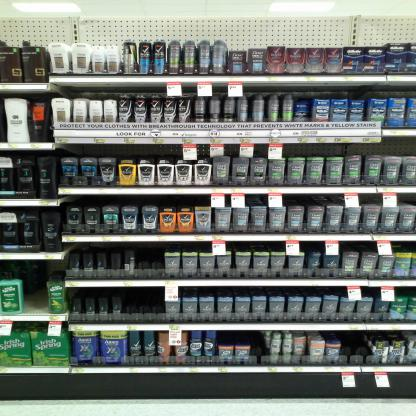Void: (60, 142, 177, 158), (177, 287, 344, 298), (286, 143, 412, 157), (66, 194, 208, 206), (121, 289, 166, 319), (26, 265, 42, 317), (57, 86, 114, 100), (345, 334, 374, 361), (217, 331, 249, 346), (252, 331, 266, 360)
